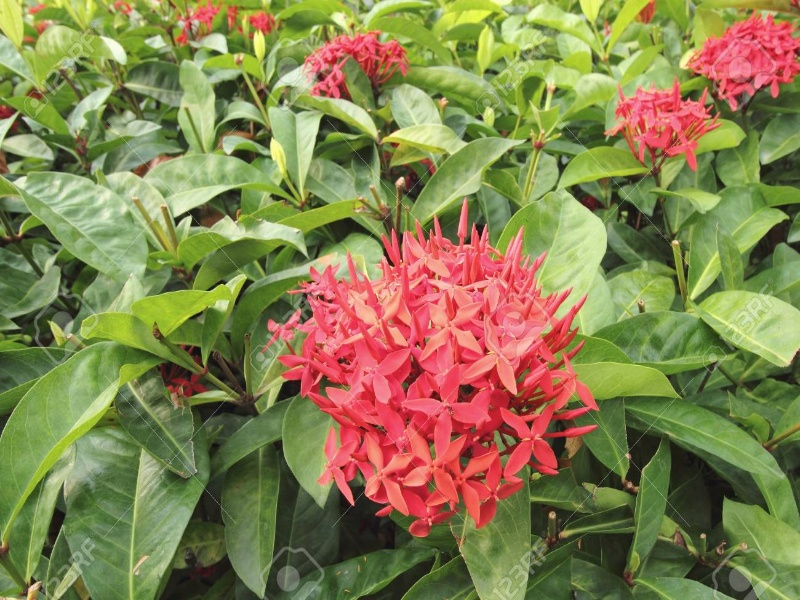Ixora: (250, 211, 630, 537), (605, 76, 726, 180), (679, 11, 800, 112)
